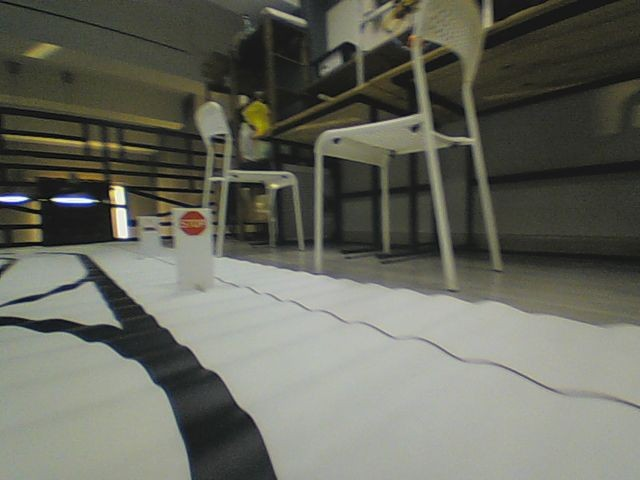Stop: (178, 210, 208, 237)
